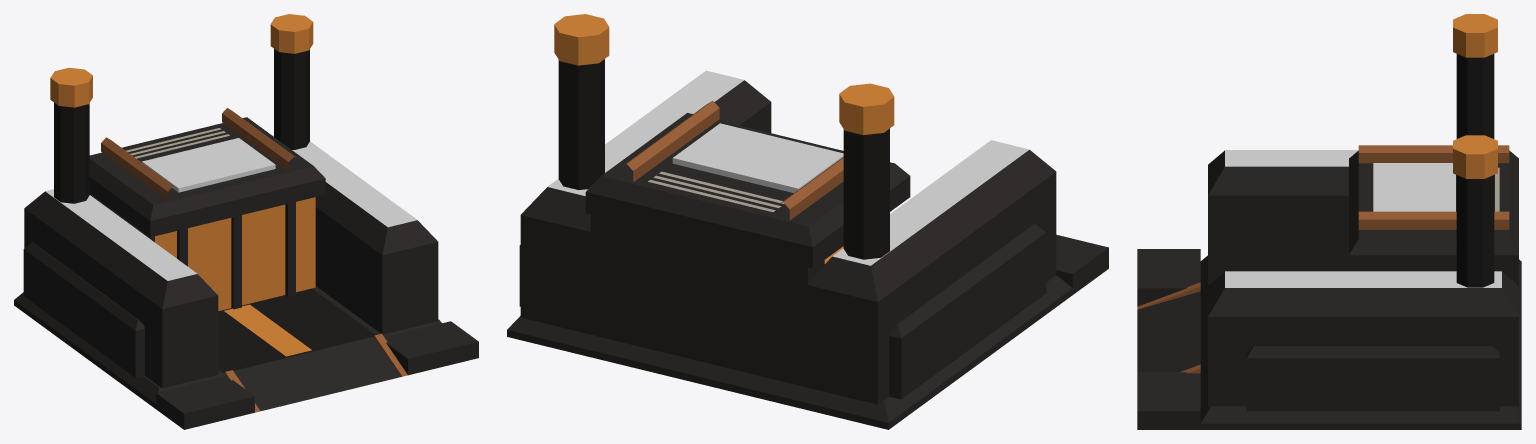
File: str_t3_fac_land.ae85869e.raw.glb
The picture shows the model from 3 angles, left to right: view 1: azimuth 30°, elevation 25°; view 2: azimuth 150°, elevation 25°; view 3: azimuth 270°, elevation 25°; orthographic projection. The views are drawn at different scales.
Parts seen in each view (by area): view 1: lod0; view 2: lod0; view 3: lod0.
Boxes of the visible parts, <box> form: lod0: <box>14,14,478,429</box>; lod0: <box>507,14,1108,429</box>; lod0: <box>1137,14,1521,429</box>.
Size of what is drawn, in the model's own units: 4.94 by 3.75 by 4.94.
